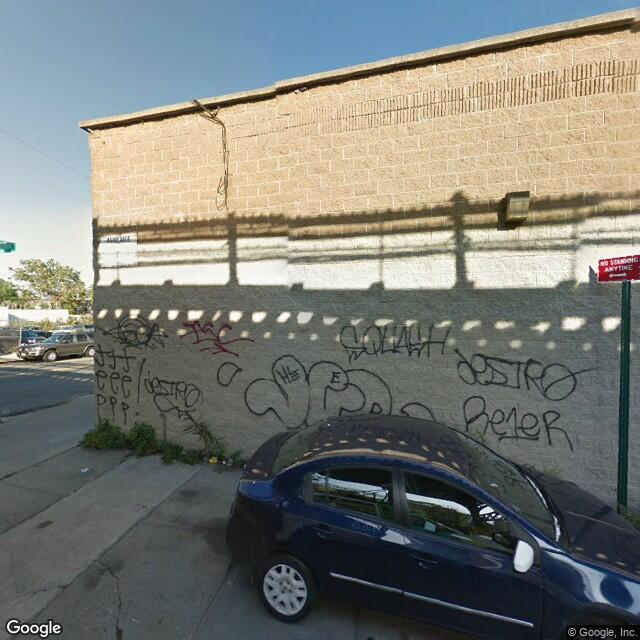litter: (209, 456, 214, 461), (219, 458, 224, 463), (79, 466, 87, 469), (239, 463, 245, 465)
